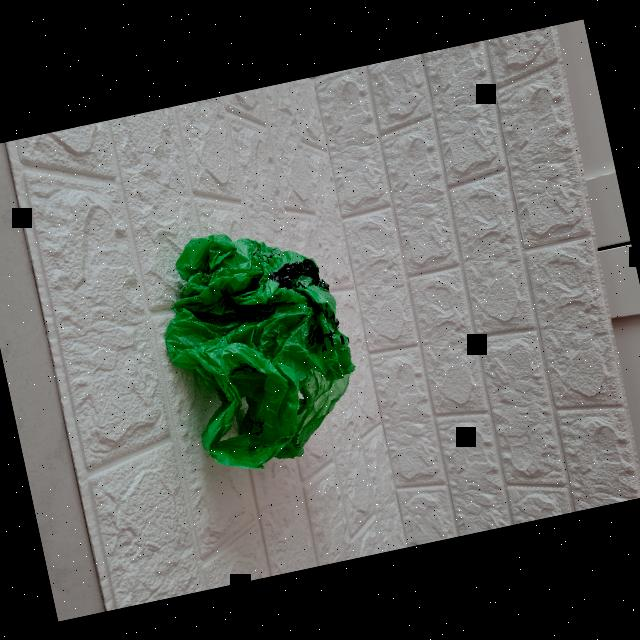plastic_bag: (142, 208, 378, 486)
